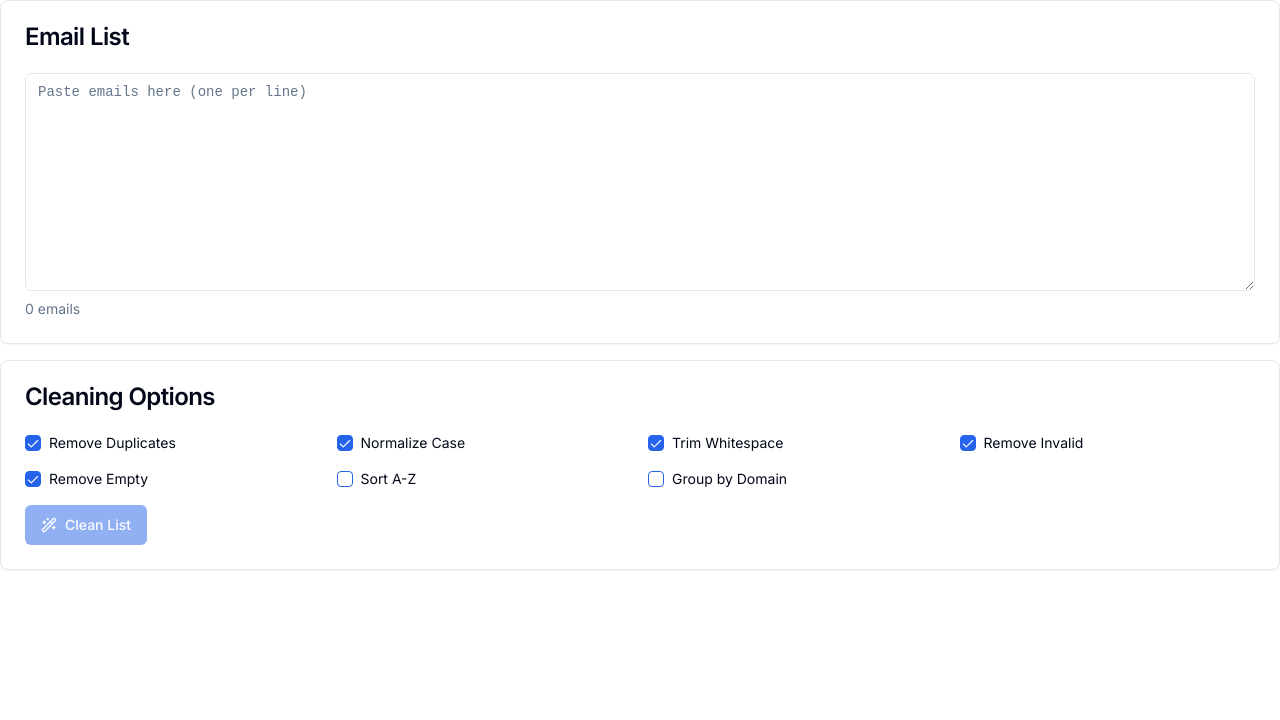
Test: ListCleaner › shows tabs for preview, changes, and domains
Type "test@example.com" into the text box with placeholder "Paste emails here (one per line)" at {"x": 640, "y": 182}, box x1=25 y1=73 x2=1255 y2=291
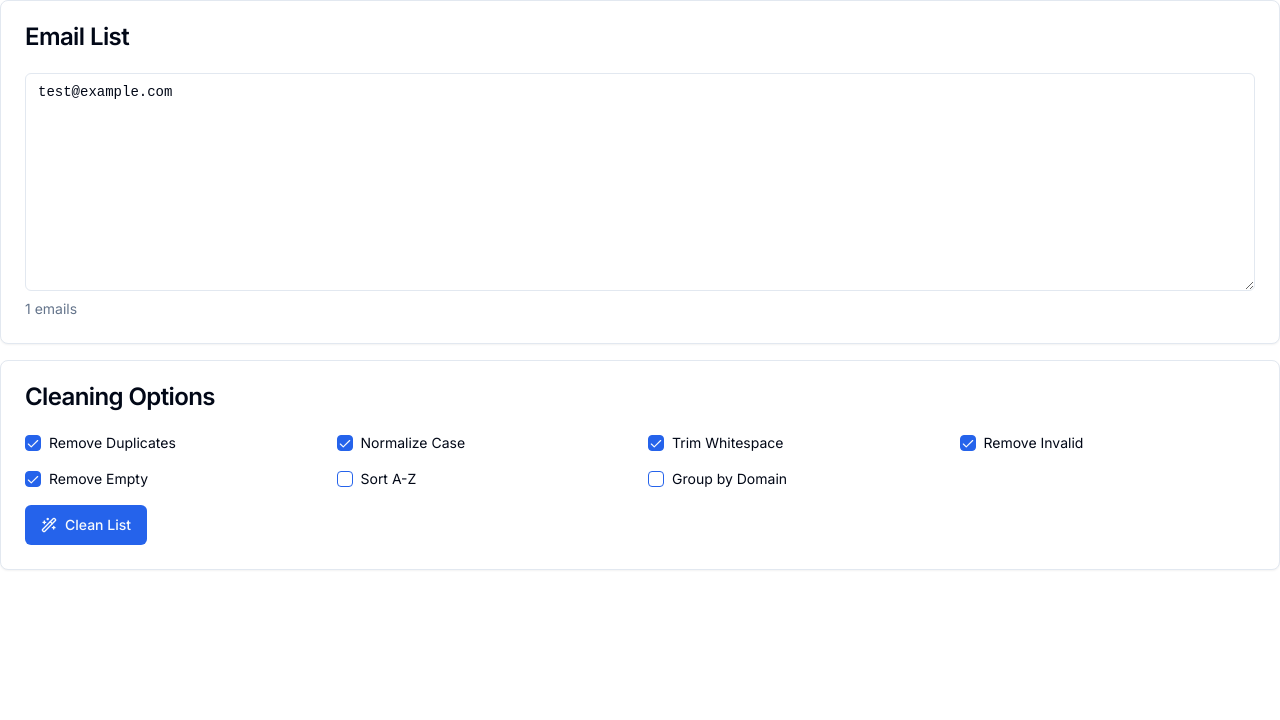
Click the button "Clean List" at {"x": 86, "y": 525}, box x1=25 y1=505 x2=147 y2=545
(page scrolled)
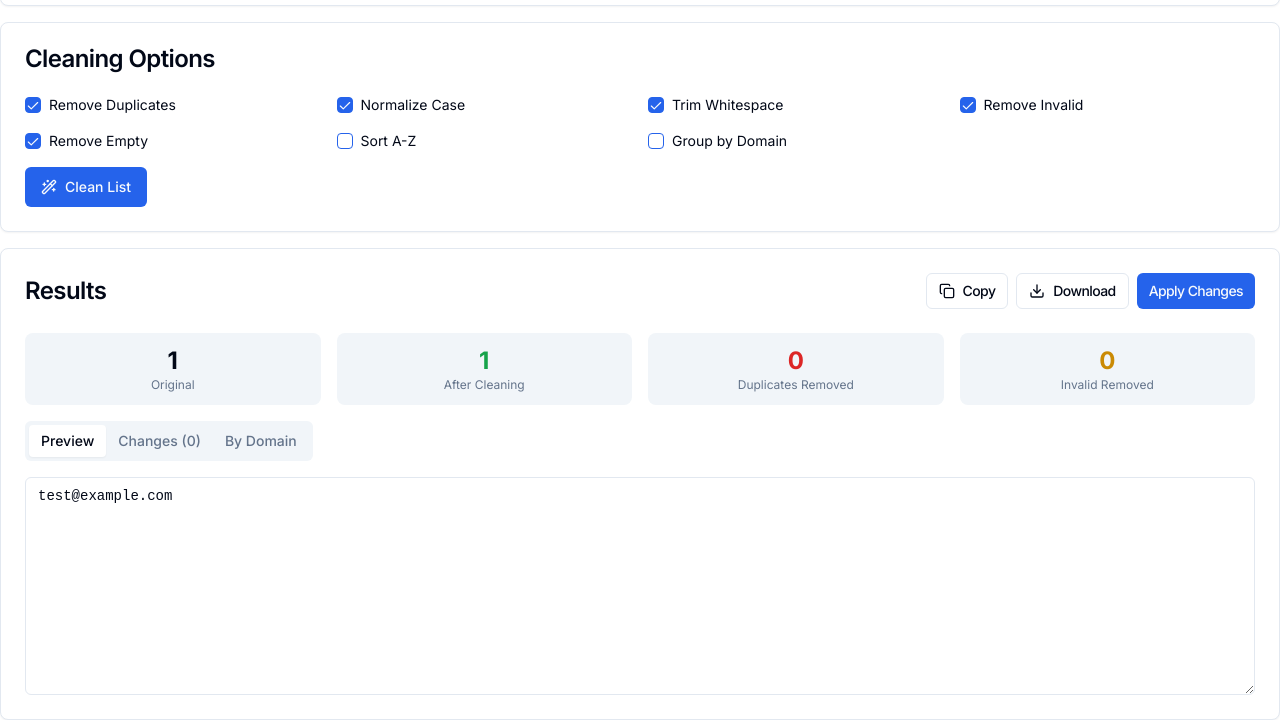
Check: the tab "Preview" is shown, box x1=29 y1=425 x2=106 y2=457
Check: the tab "Changes (0)" is shown, box x1=106 y1=425 x2=213 y2=457
Check: the tab "By Domain" is shown, box x1=213 y1=425 x2=309 y2=457
